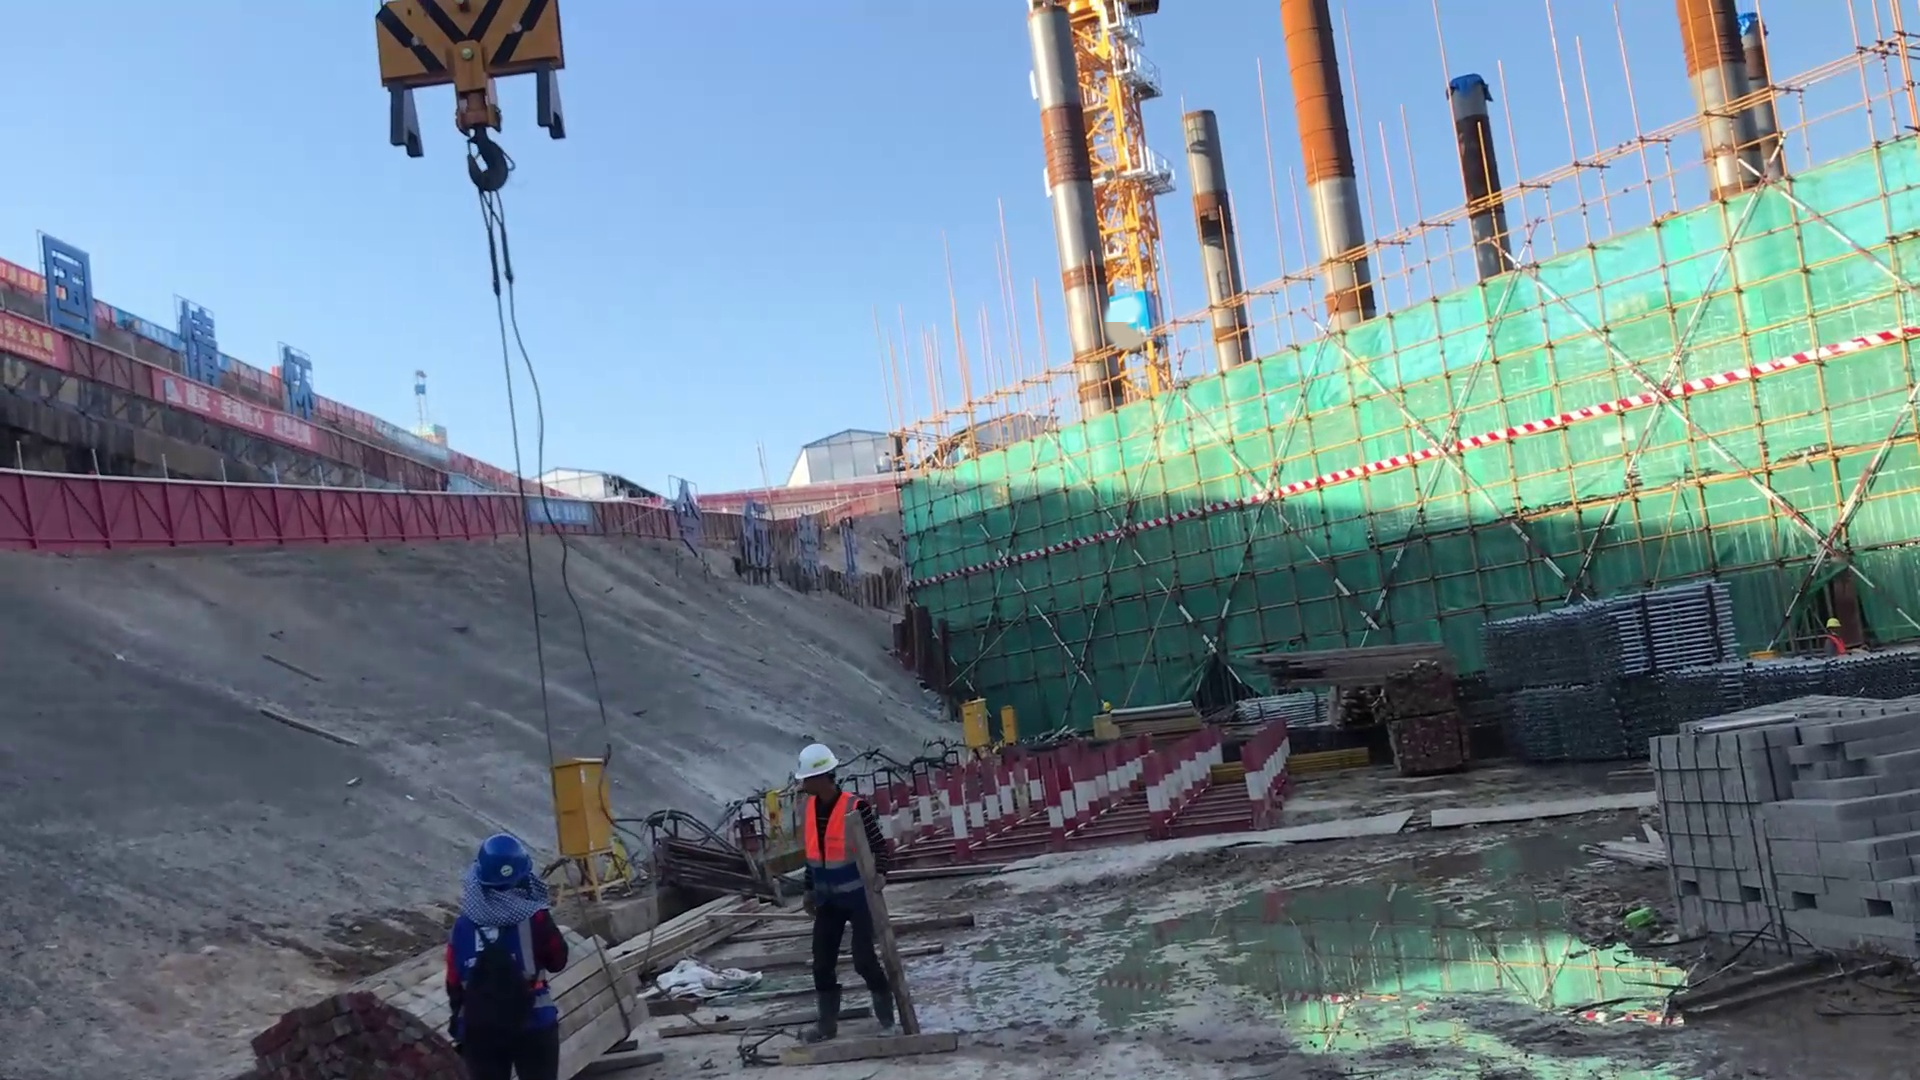board: (1637, 693, 1920, 953)
ebox: (541, 753, 643, 911), (955, 693, 989, 760), (986, 702, 1019, 752)
fence: (1, 460, 441, 553), (444, 489, 689, 542)
helmet: (465, 826, 537, 883), (788, 741, 841, 784), (1095, 698, 1116, 718)
hook: (373, 11, 560, 152)
person: (781, 739, 919, 1044), (443, 831, 575, 1080), (1815, 615, 1850, 658)
scaffold: (1478, 574, 1715, 672)
vest: (784, 790, 862, 886)
wood: (1249, 634, 1464, 698)
